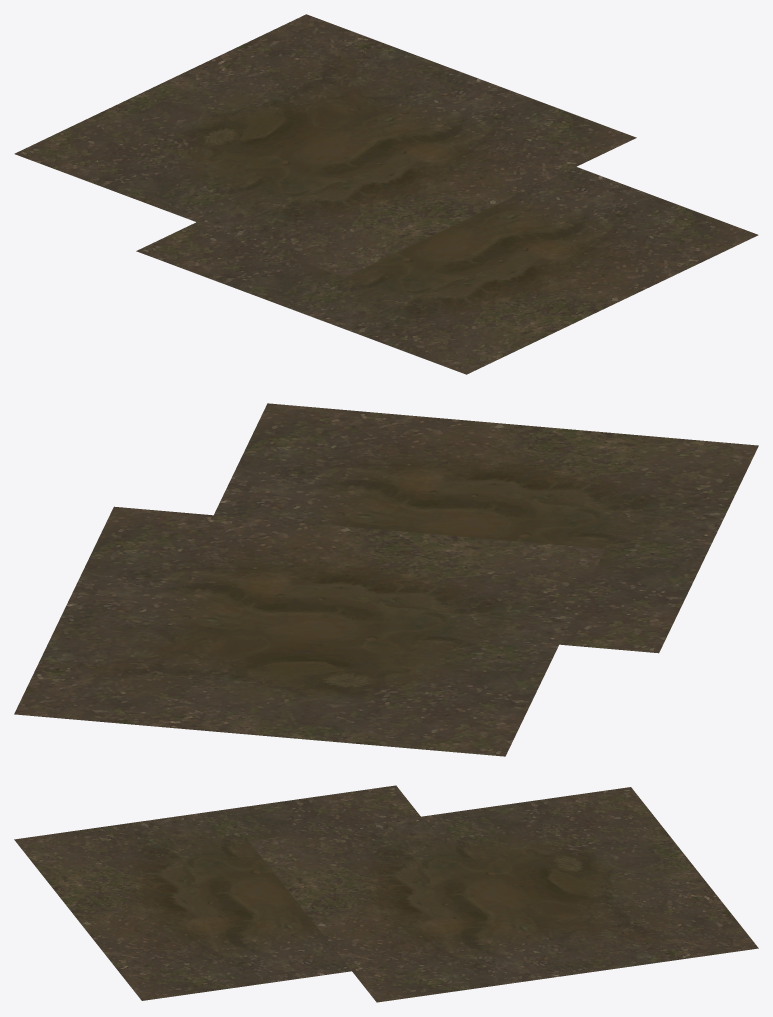
File: dirt_blends03.fbx
3 renders of one model, top to bottom at view 1: azimuth 30°, elevation 25°; view 2: azimuth 150°, elevation 25°; view 3: azimuth 270°, elevation 25°, orthographic. The views are drawn at different scales.
Visible parts, largest first — view 1: obj0.052; view 2: obj0.052; view 3: obj0.052.
Part boxes in pixels (x1=…): obj0.052: x1=14, y1=14, x2=758, y2=374; obj0.052: x1=14, y1=403, x2=758, y2=756; obj0.052: x1=14, y1=785, x2=758, y2=1002.
Size of the model in its own units: 11.43 by 0.0336 by 16.47.
